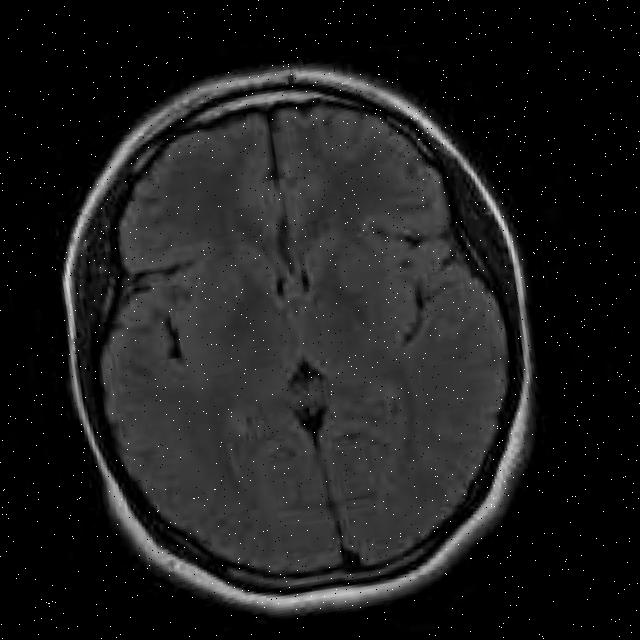NoTumor: (27, 43, 574, 637)
